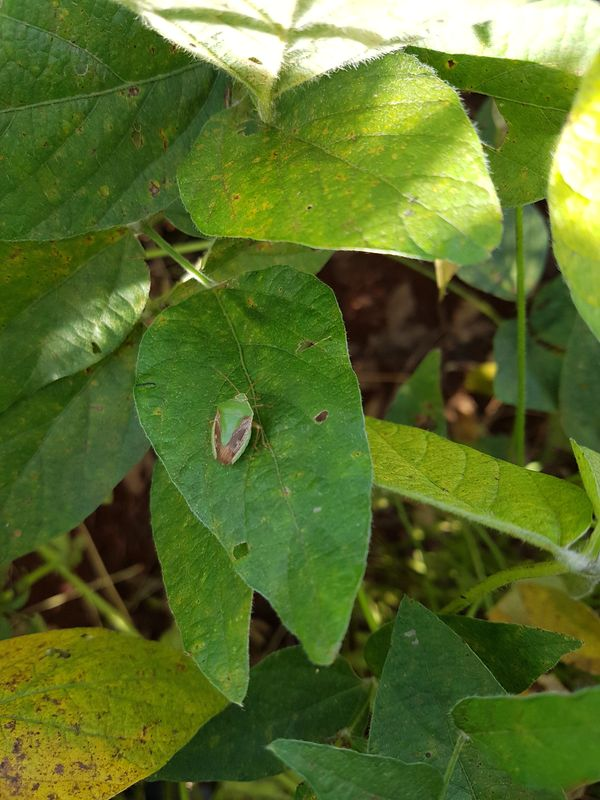Edessa_meditabunda: (193, 368, 281, 476)
